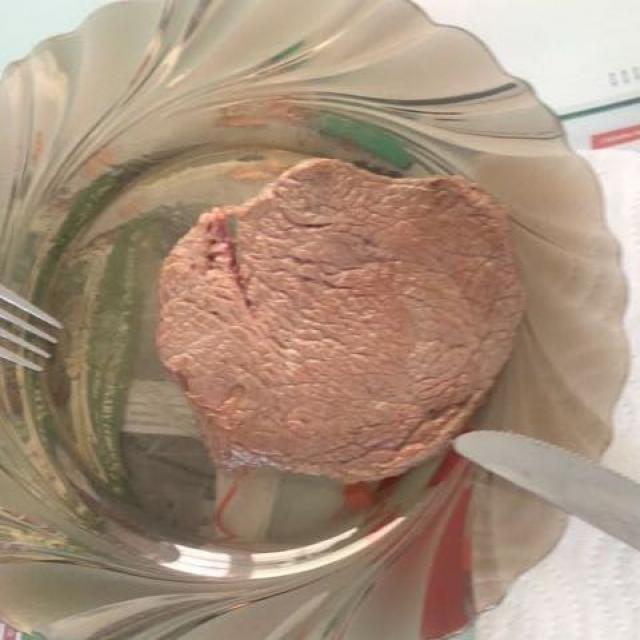beef: (157, 169, 518, 480)
